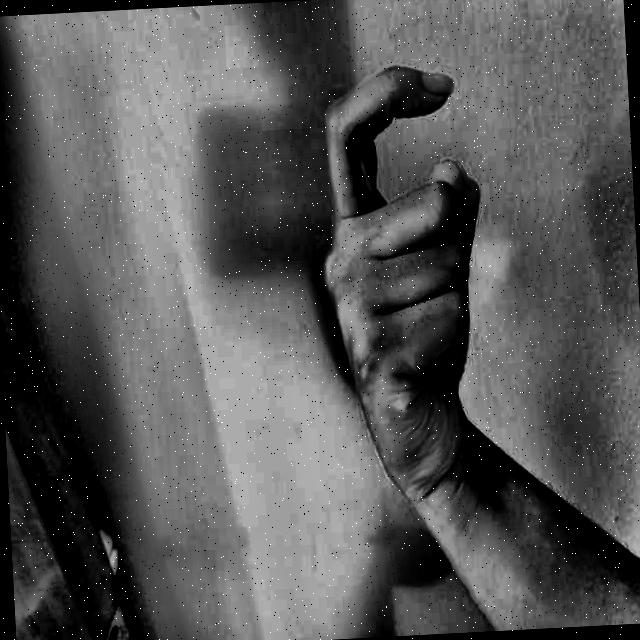E: (286, 9, 552, 501)
